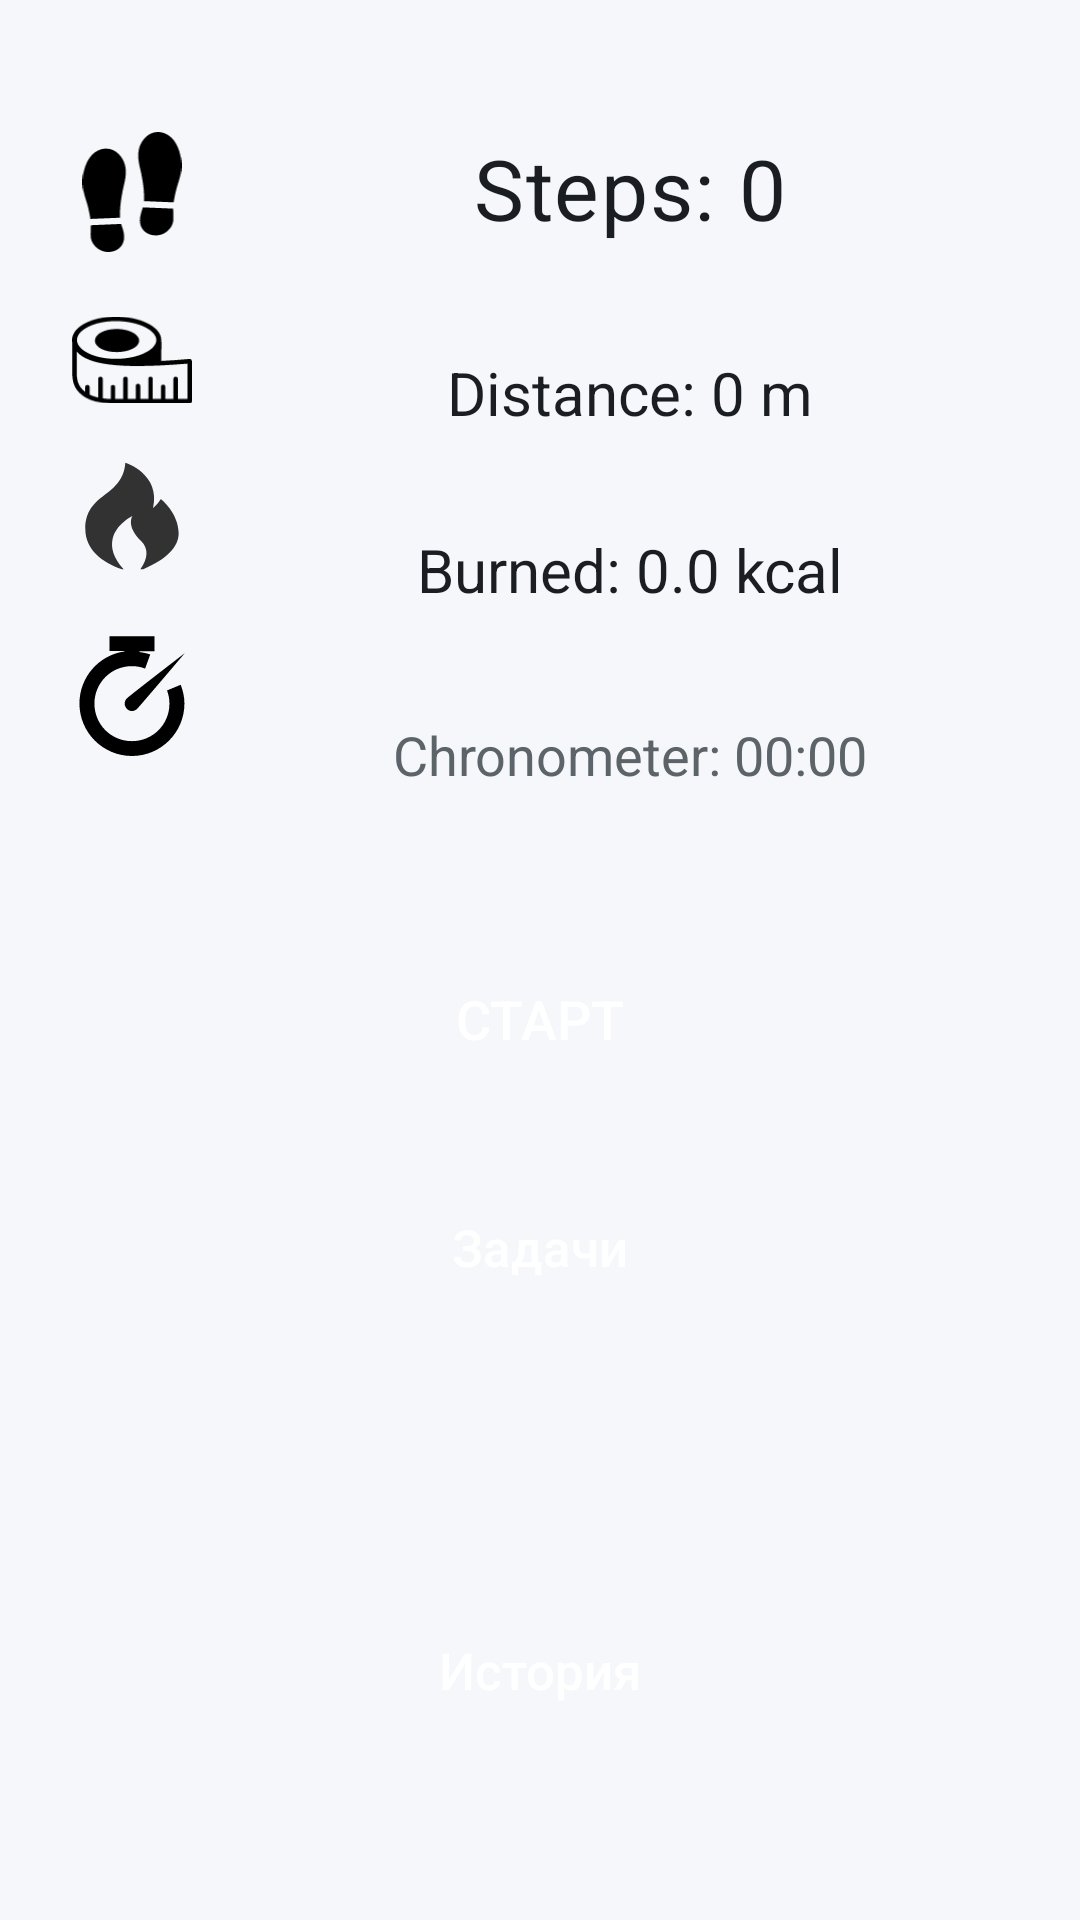

Where to tap for icons on this 1080w x 1920h app screen, as point (x, y):
fire: point (132, 516)
measuring tape: point (132, 360)
steps: point (132, 192)
timer: point (132, 696)
